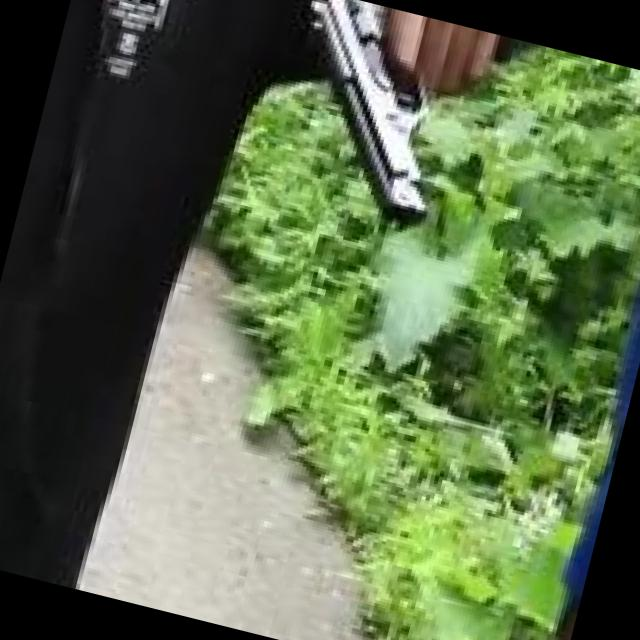Guns: (242, 0, 499, 261)
